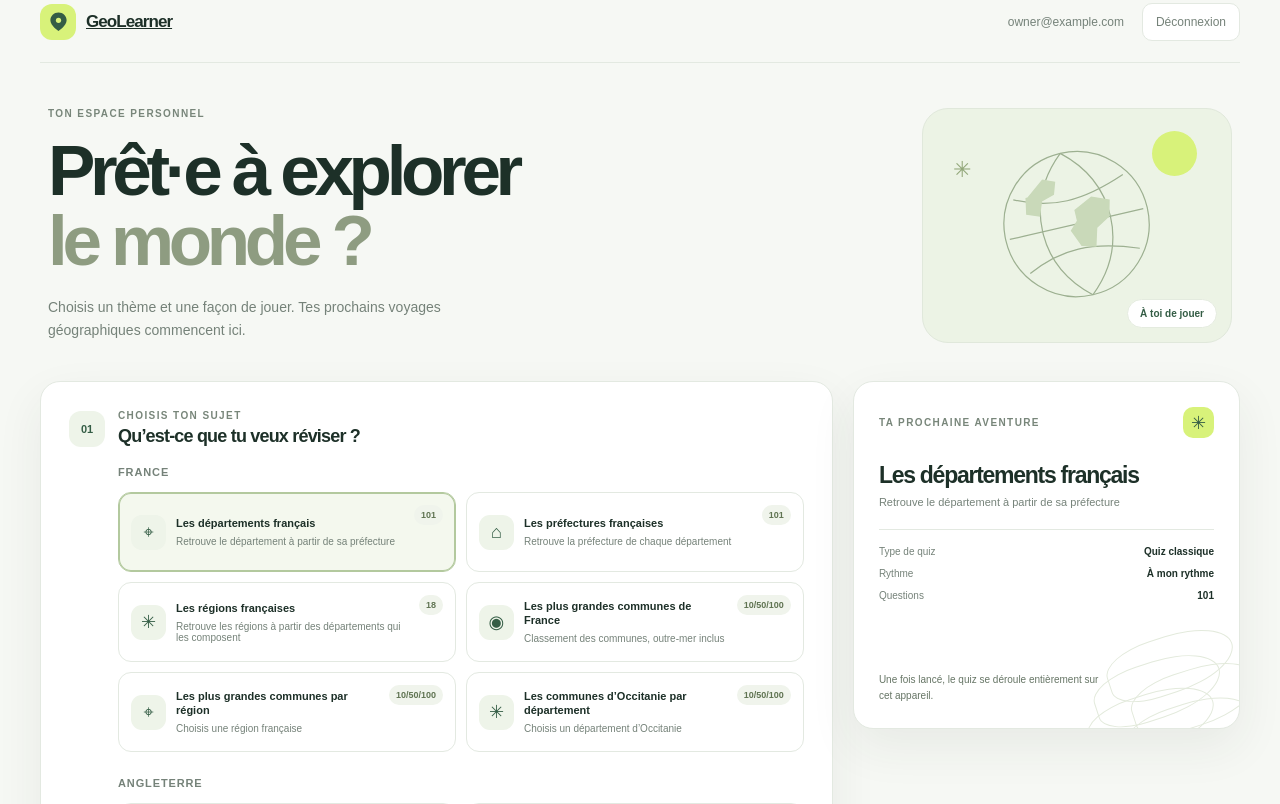
Scenario: GeoLearner page interactions › updates regional quiz sizes and summaries from the selected region
Click the button "Les plus grandes communes par région": (148, 712) left=118, top=672, right=456, bottom=752
(page scrolled)
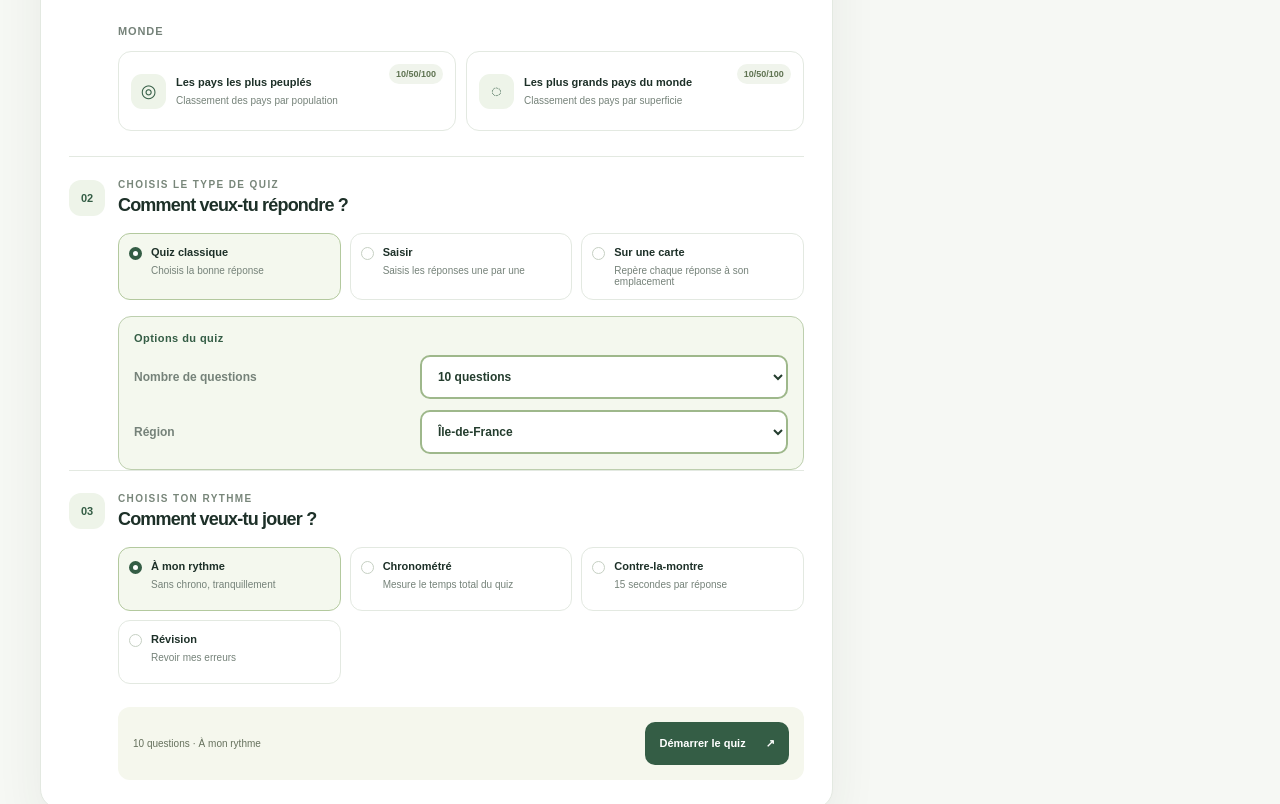
Select "Guadeloupe" in the dropdown labelled "Région": (604, 432) left=420, top=410, right=788, bottom=454
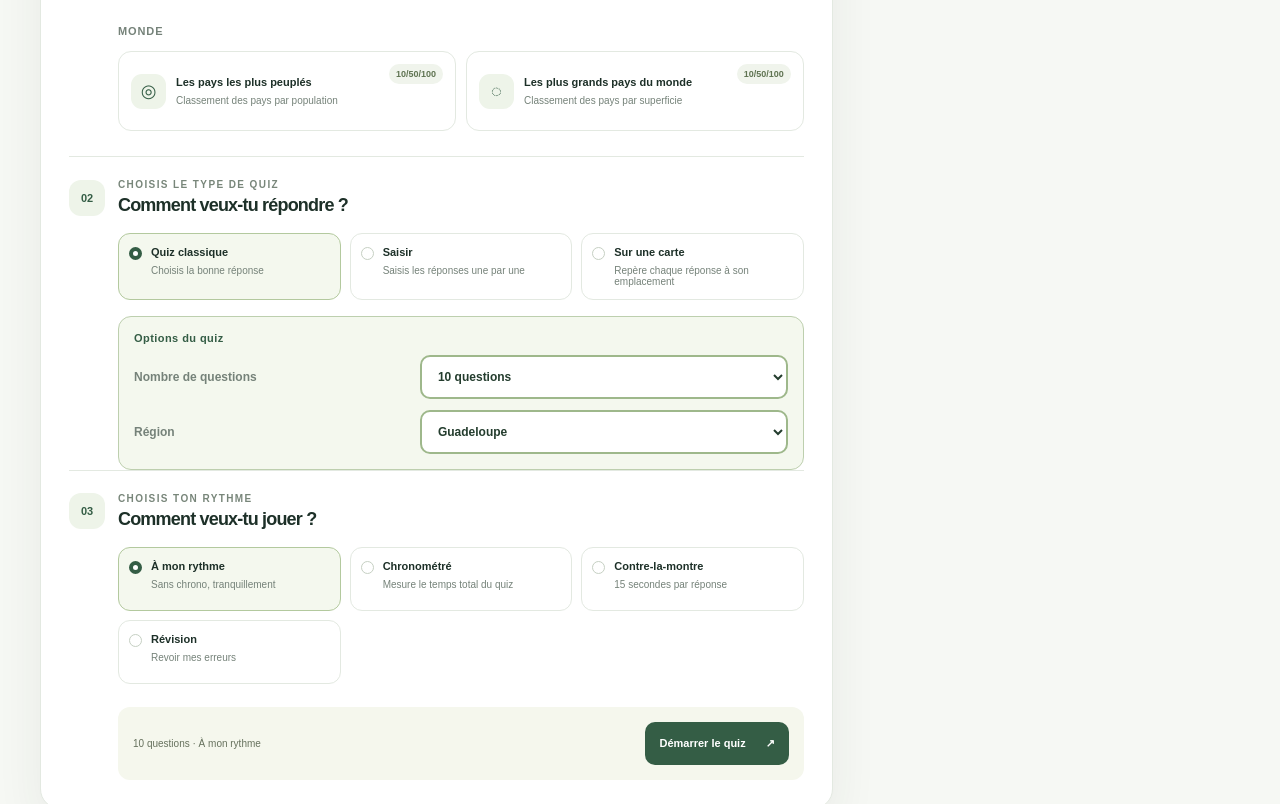
Select "Toutes les communes (32)" in the dropdown labelled "Nombre de questions": (604, 377) left=420, top=355, right=788, bottom=399
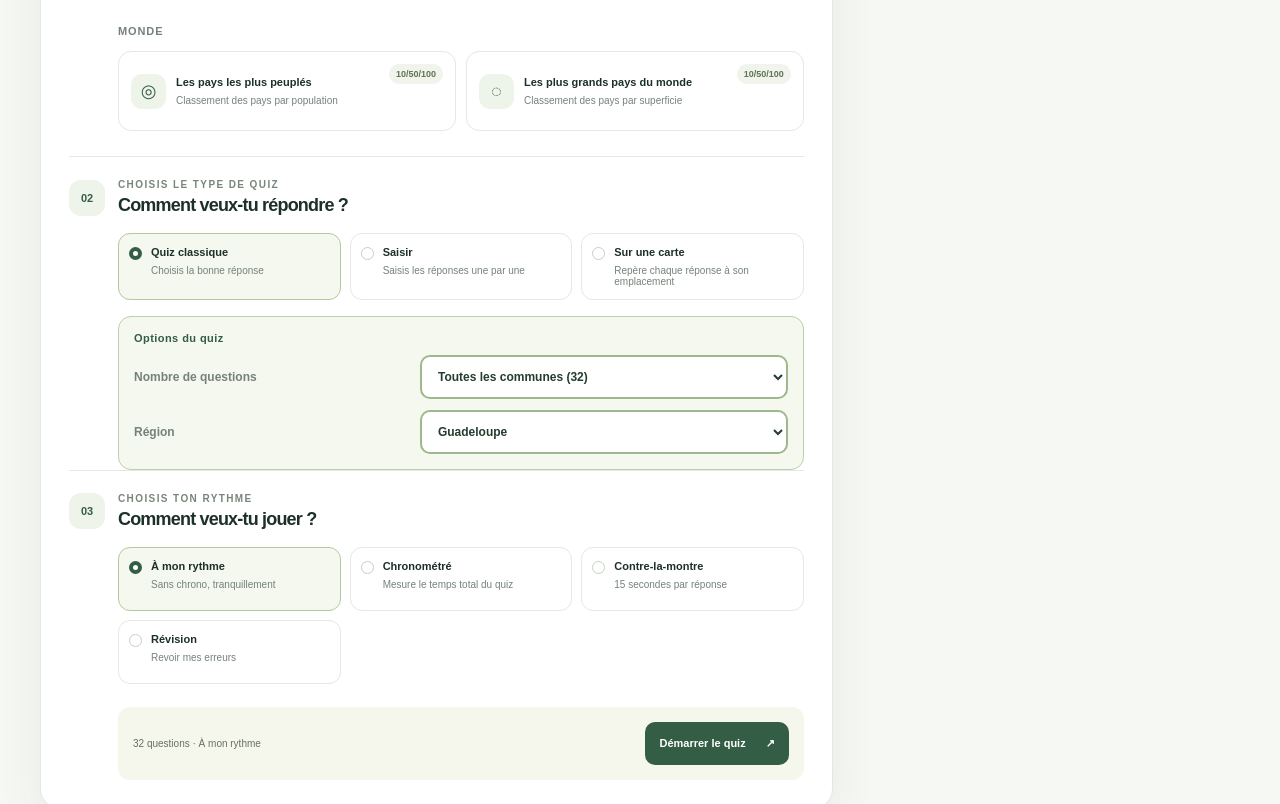
Result: the text "32 questions · À mon rythme" is shown at left=133, top=738, right=261, bottom=749
